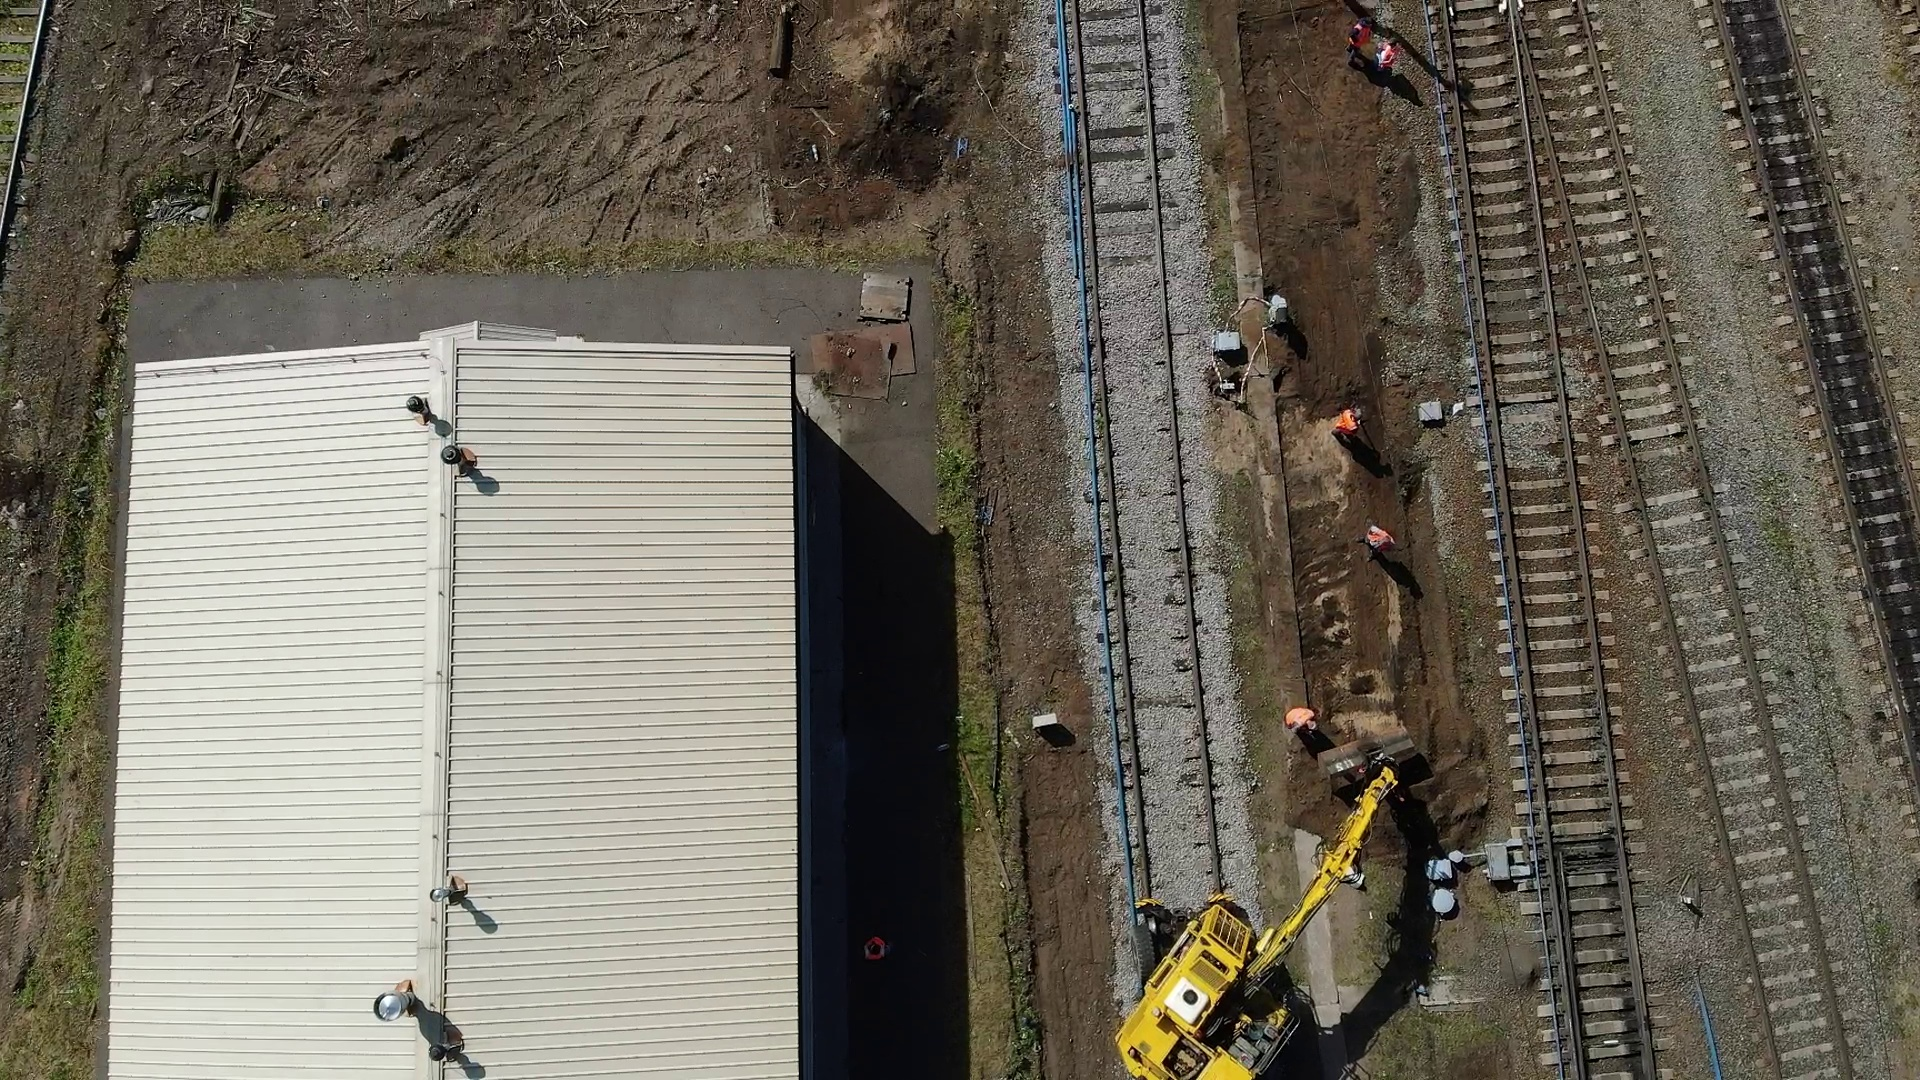kjtv: (1115, 827, 1360, 1079)
